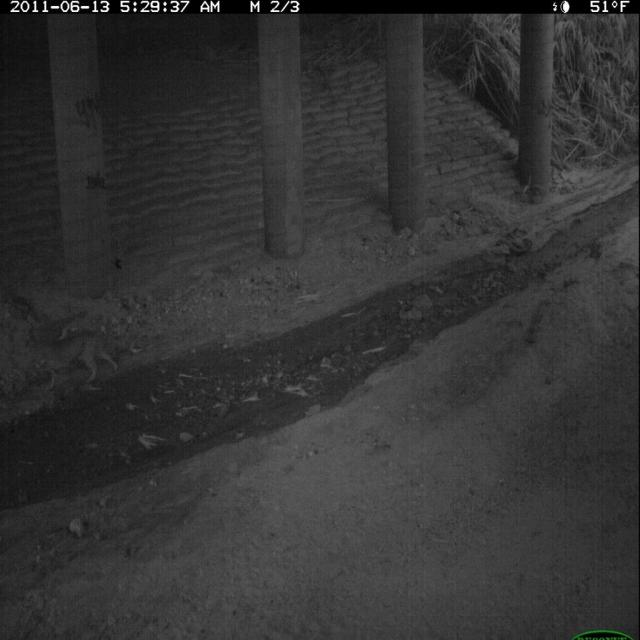bobcat: (29, 322, 123, 403)
